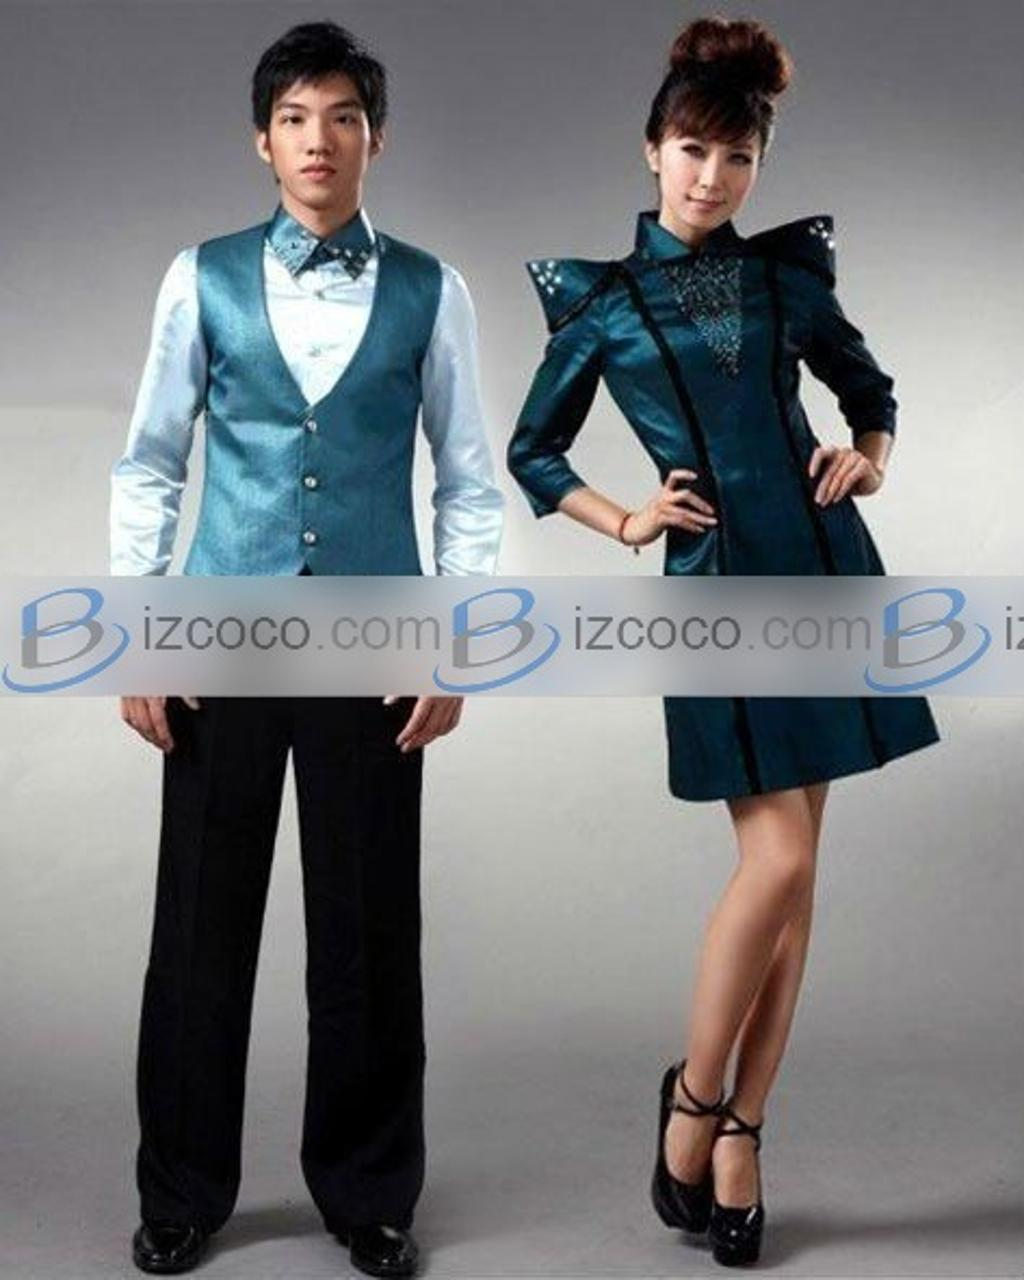face: (272, 65, 372, 207), (659, 100, 761, 240)
